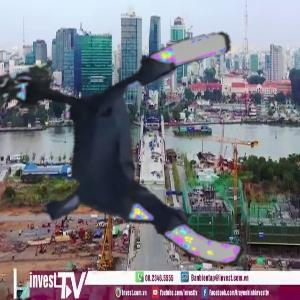drone: (14, 39, 266, 291)
